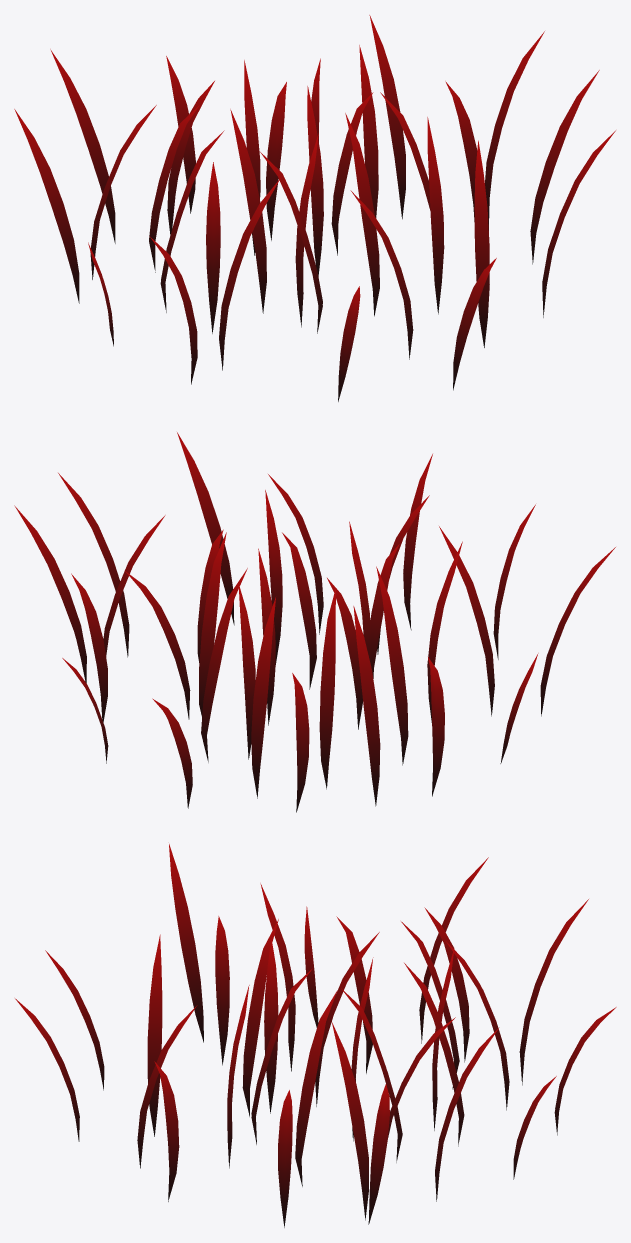
File: SM_Grass_1.fbx
3 renders of one model, top to bottom at view 1: azimuth 30°, elevation 25°; view 2: azimuth 150°, elevation 25°; view 3: azimuth 270°, elevation 25°, orthographic. The views are drawn at different scales.
Parts seen in each view (by area): view 1: Grass; view 2: Grass; view 3: Grass.
Boxes of the visible parts, x1=… form: Grass: x1=14, y1=15, x2=615, y2=401; Grass: x1=14, y1=432, x2=615, y2=812; Grass: x1=15, y1=844, x2=616, y2=1227.
Size of the model in its own units: 254 by 93.38 by 266.
